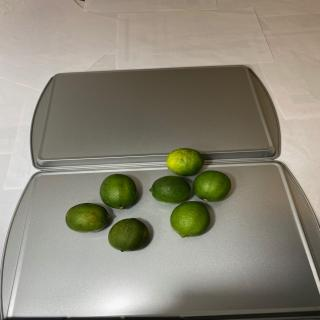Lemon: (170, 201, 211, 238), (99, 173, 137, 210), (108, 218, 148, 252), (65, 203, 110, 233), (192, 170, 232, 202), (149, 175, 191, 204), (166, 148, 204, 176)
